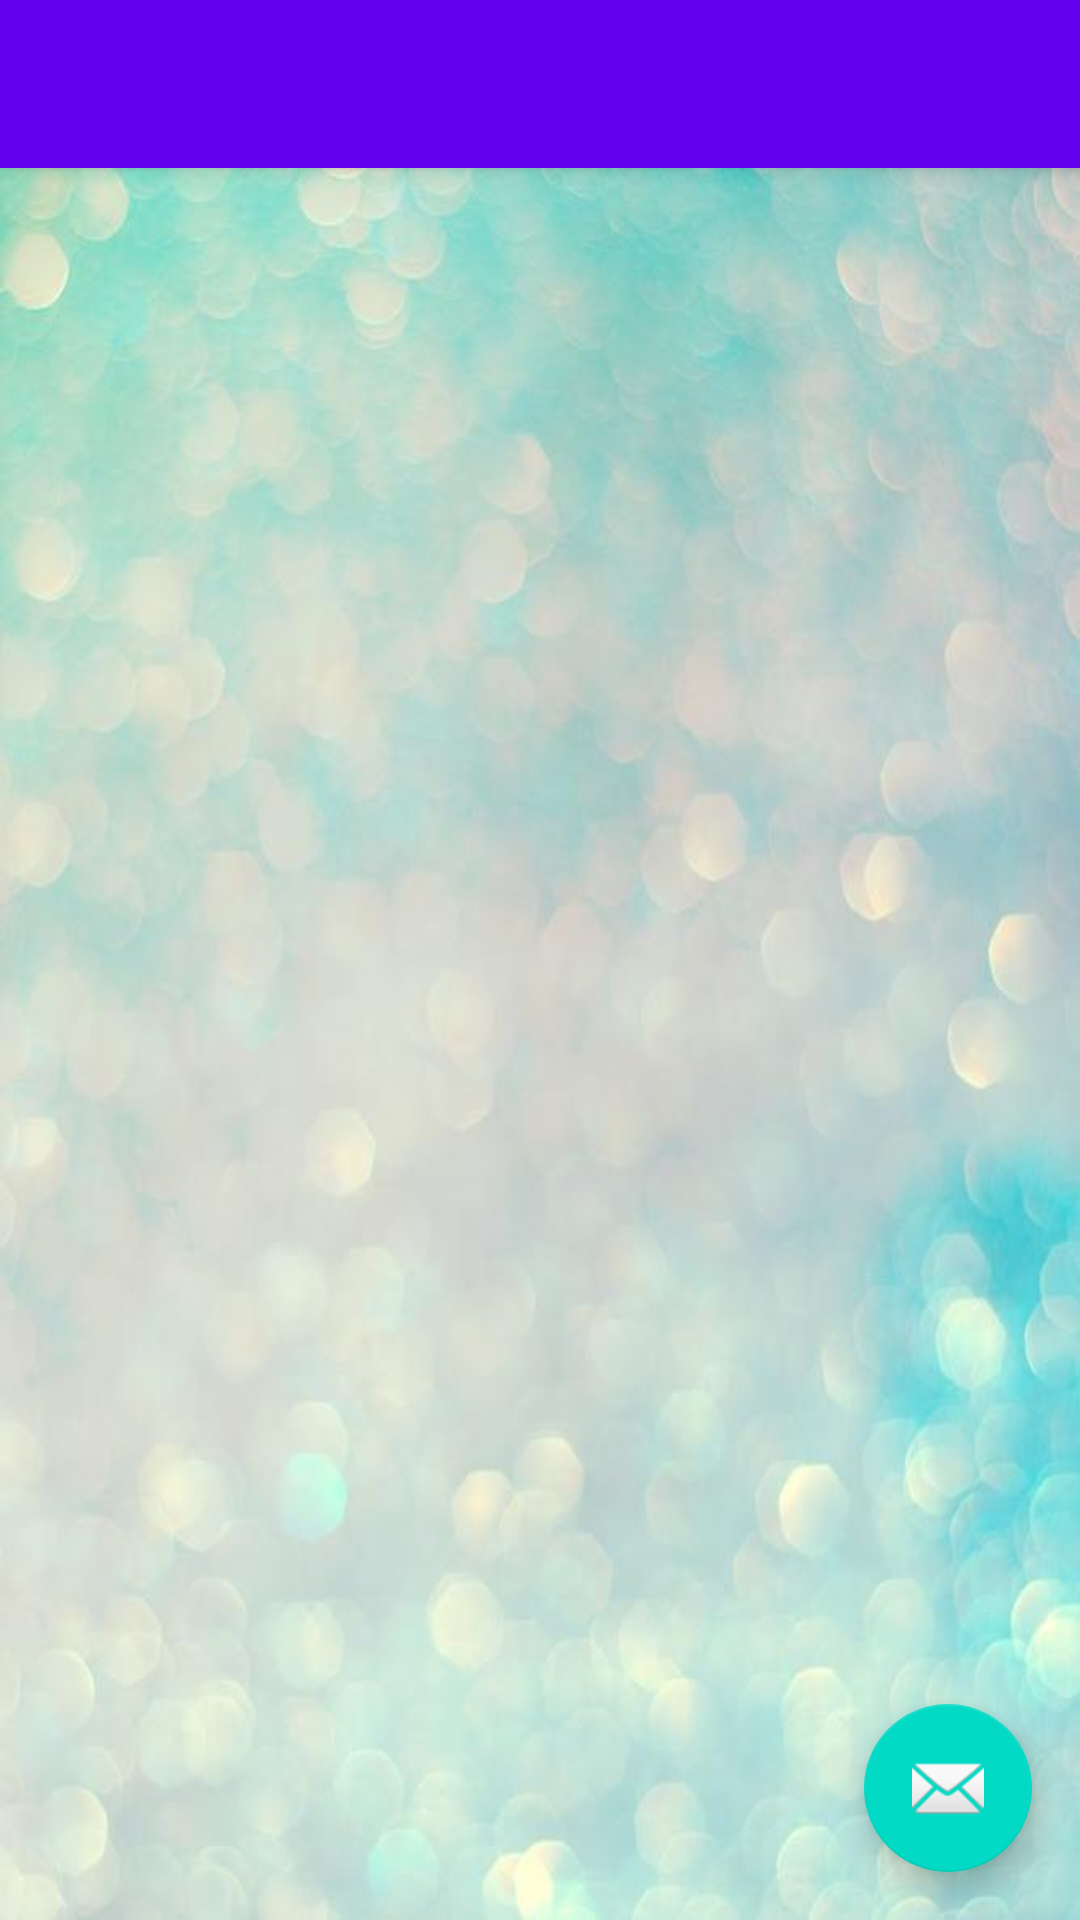

Icons on this 1080px×1920px Android screen, each with the point to tap as [x,y]:
email: [948,1788]
